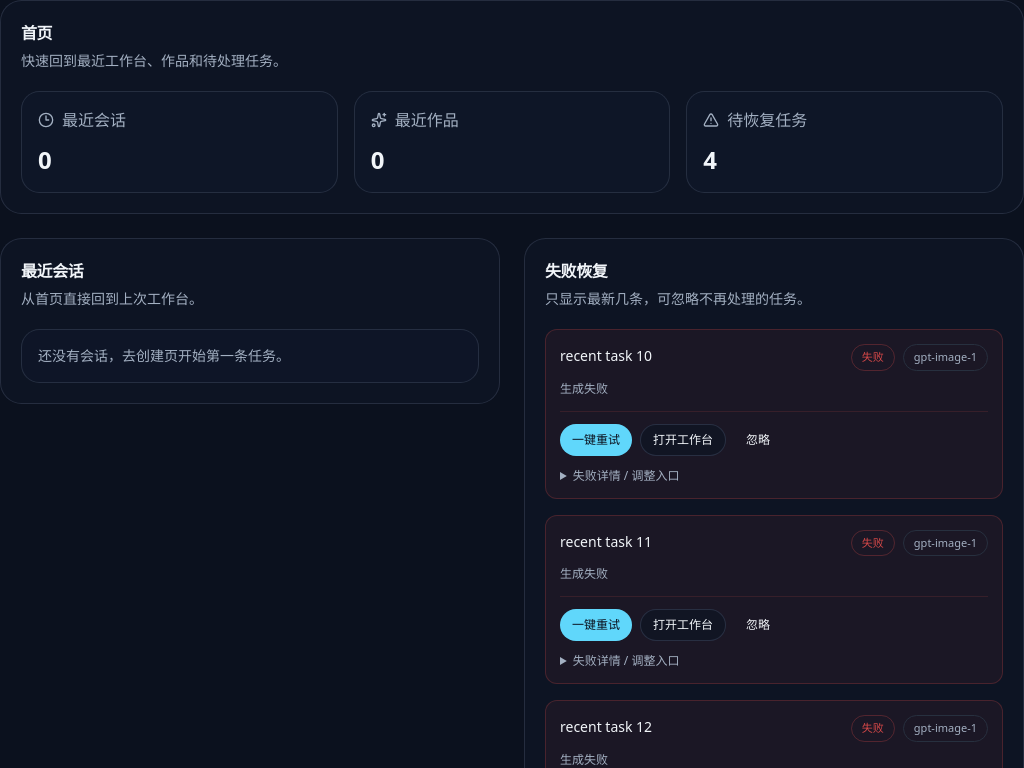
Test: home page › can ignore a recovery task from the compact list
Check: the text "recent task 10" is shown, box [560,346,652,365]
Click the button "忽略" below "recent task 10" at (758, 440), box [734,424,782,456]
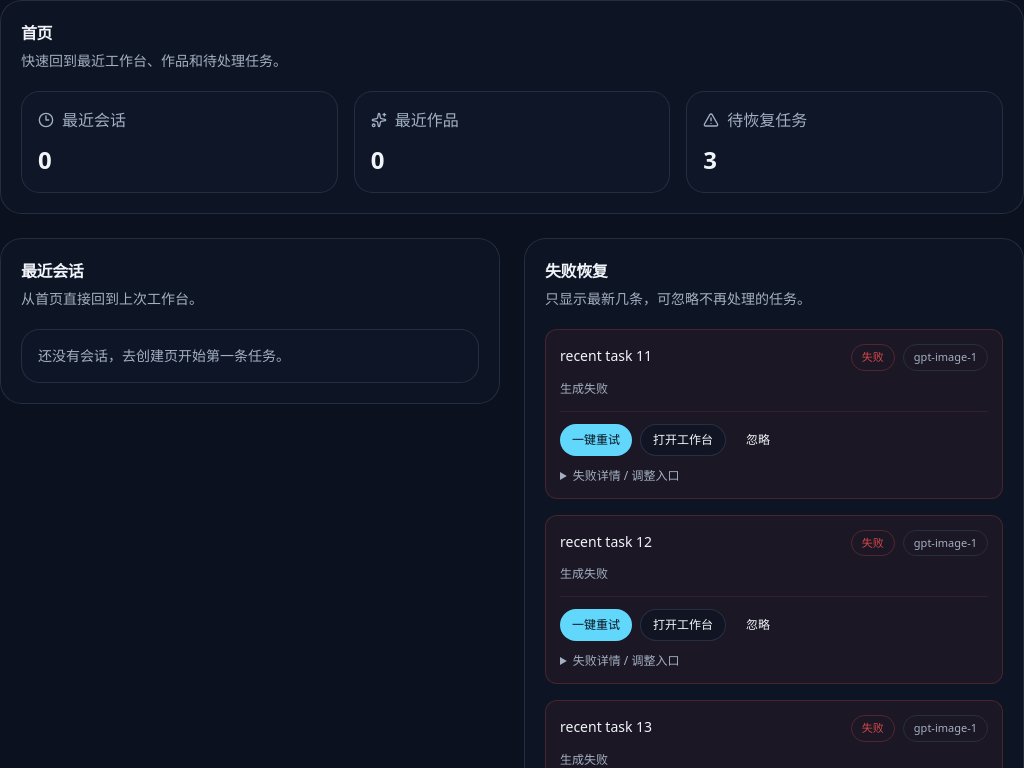
Check: the text "recent task 10" is gone
